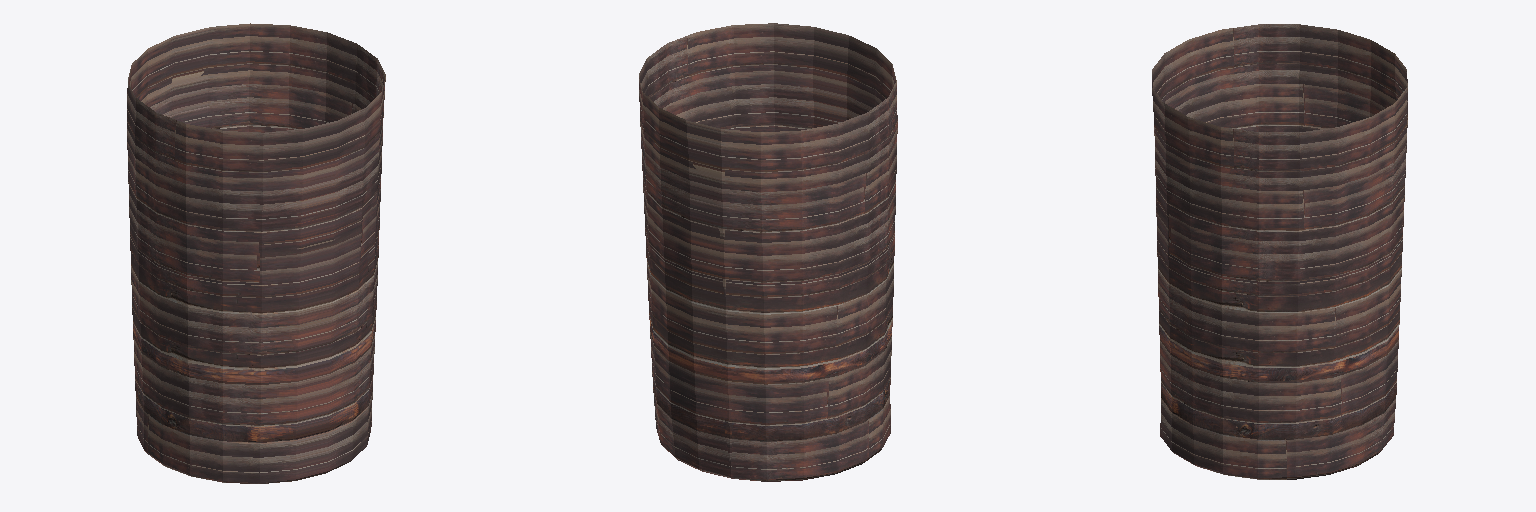
3 renders of one model, left to right at view 1: azimuth 30°, elevation 25°; view 2: azimuth 150°, elevation 25°; view 3: azimuth 270°, elevation 25°, orthographic.
Visible parts, largest first — view 1: bin__1_:Mesh; view 2: bin__1_:Mesh; view 3: bin__1_:Mesh.
Part boxes in pixels (x1,y1,x2,y2): bin__1_:Mesh: (127, 23, 385, 483); bin__1_:Mesh: (639, 23, 897, 481); bin__1_:Mesh: (1152, 24, 1407, 479).
Size of the model in its own units: 1.32 by 2.02 by 1.32.
Materials: 1 (1 with a texture image).